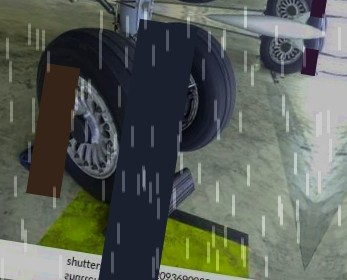chock: (99, 155, 200, 267), (16, 126, 84, 182), (300, 61, 321, 78)
wheel: (17, 22, 185, 209), (129, 17, 245, 160), (257, 28, 323, 78), (264, 0, 330, 30)
